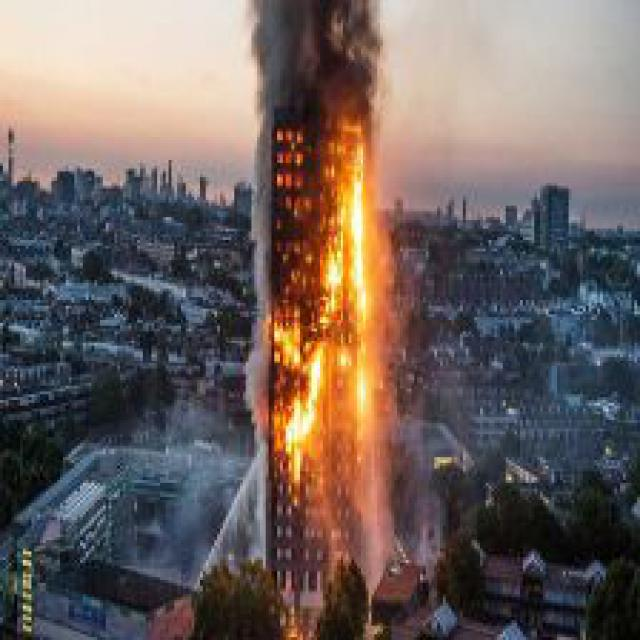fire: (277, 100, 397, 491)
